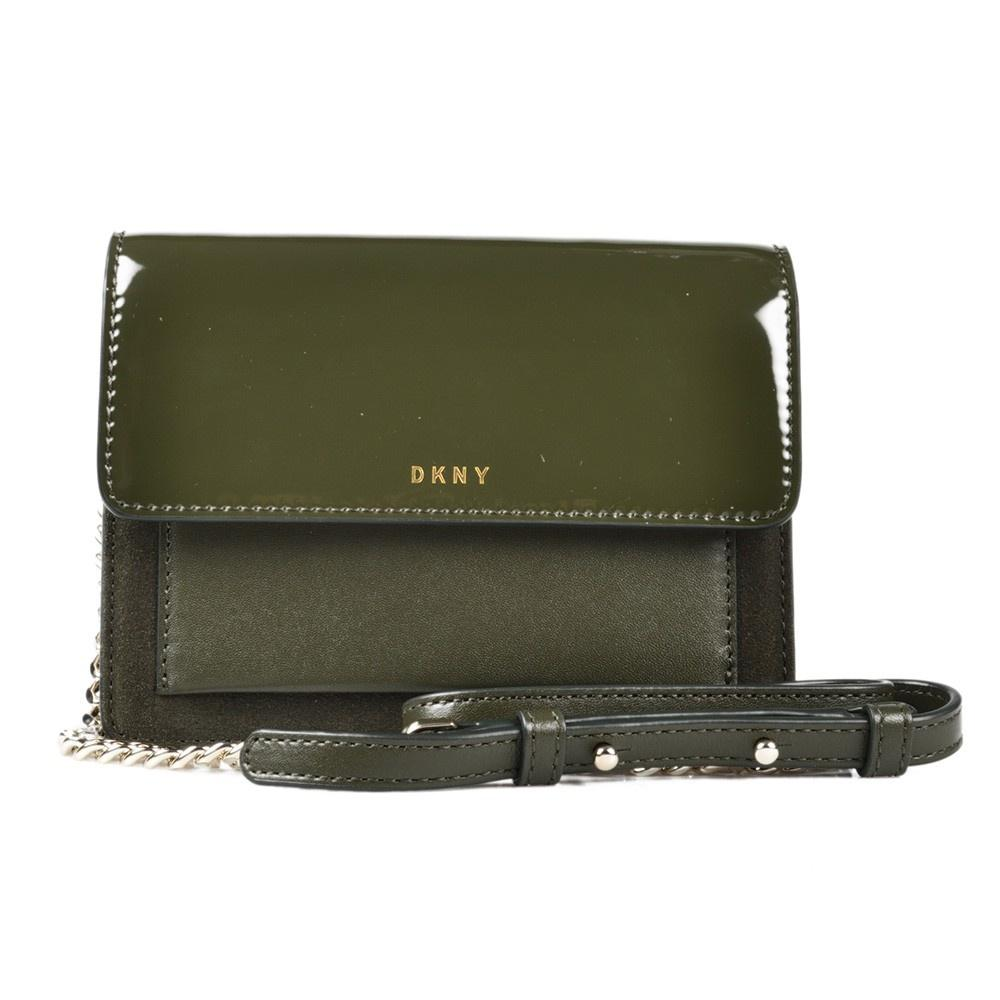DKNY: (411, 466, 490, 484)
